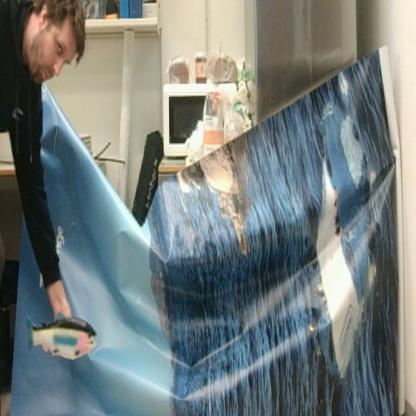rubberfish: (26, 312, 98, 360)
